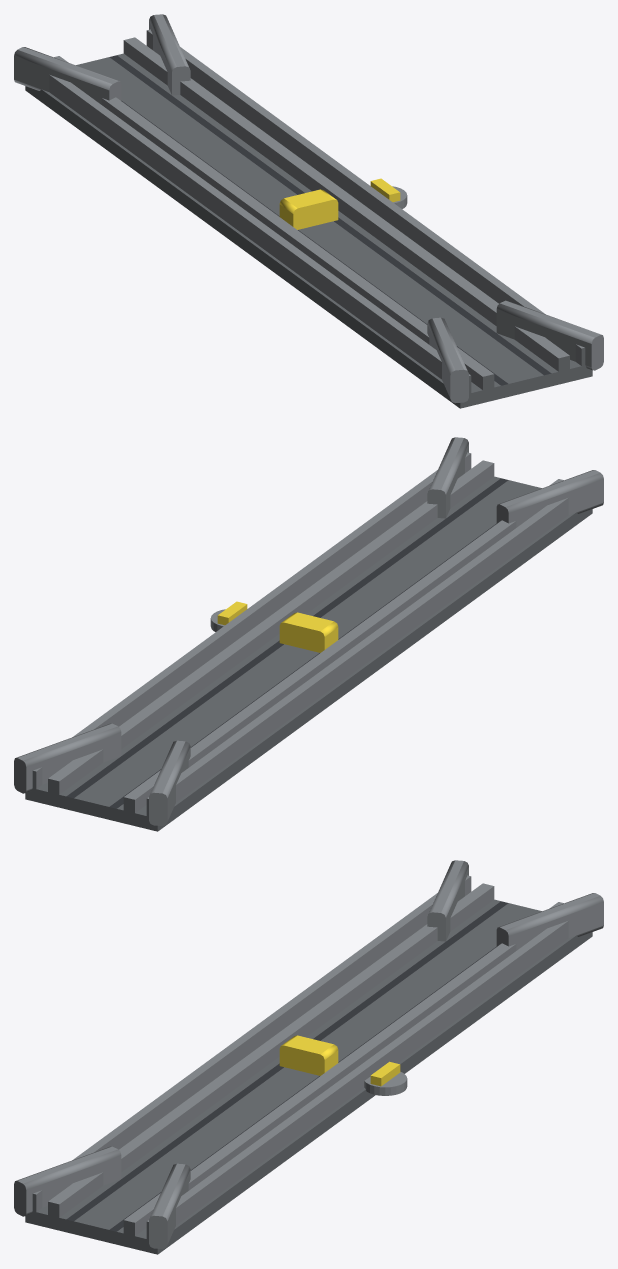
Rendered from Track_AdvanceStop.fbx.
3 renders of one model, top to bottom at view 1: azimuth 30°, elevation 25°; view 2: azimuth 150°, elevation 25°; view 3: azimuth 330°, elevation 25°, orthographic.
Visible parts, largest first — view 1: Molded grey rail, Relay Start R, Relay End L, Relay Start L, Stop tab, Relay End R; view 2: Molded grey rail, Relay End R, Relay Start L, Relay End L, Stop tab, Relay Start R; view 3: Molded grey rail, Relay Start L, Relay End R, Relay Start R, Stop tab, Relay End L, Lever base.
Boxes of the visible parts, bbox=[...] form: Molded grey rail: bbox=[25, 29, 592, 408]; Relay Start R: bbox=[496, 300, 603, 370]; Relay End L: bbox=[14, 47, 121, 104]; Relay Start L: bbox=[427, 317, 468, 403]; Stop tab: bbox=[279, 189, 338, 229]; Relay End R: bbox=[149, 14, 190, 95]; Molded grey rail: bbox=[25, 452, 592, 831]; Relay End R: bbox=[14, 723, 121, 793]; Relay Start L: bbox=[496, 470, 603, 527]; Relay End L: bbox=[149, 740, 190, 826]; Stop tab: bbox=[279, 612, 338, 652]; Relay Start R: bbox=[427, 437, 468, 518]; Molded grey rail: bbox=[25, 875, 592, 1254]; Relay Start L: bbox=[14, 1146, 121, 1216]; Relay End R: bbox=[496, 893, 603, 950]; Relay Start R: bbox=[149, 1163, 190, 1249]; Stop tab: bbox=[279, 1035, 338, 1075]; Relay End L: bbox=[427, 860, 468, 941]; Lever base: bbox=[364, 1071, 407, 1095].
Size of the model in its own units: 137 by 31.25 by 611.
